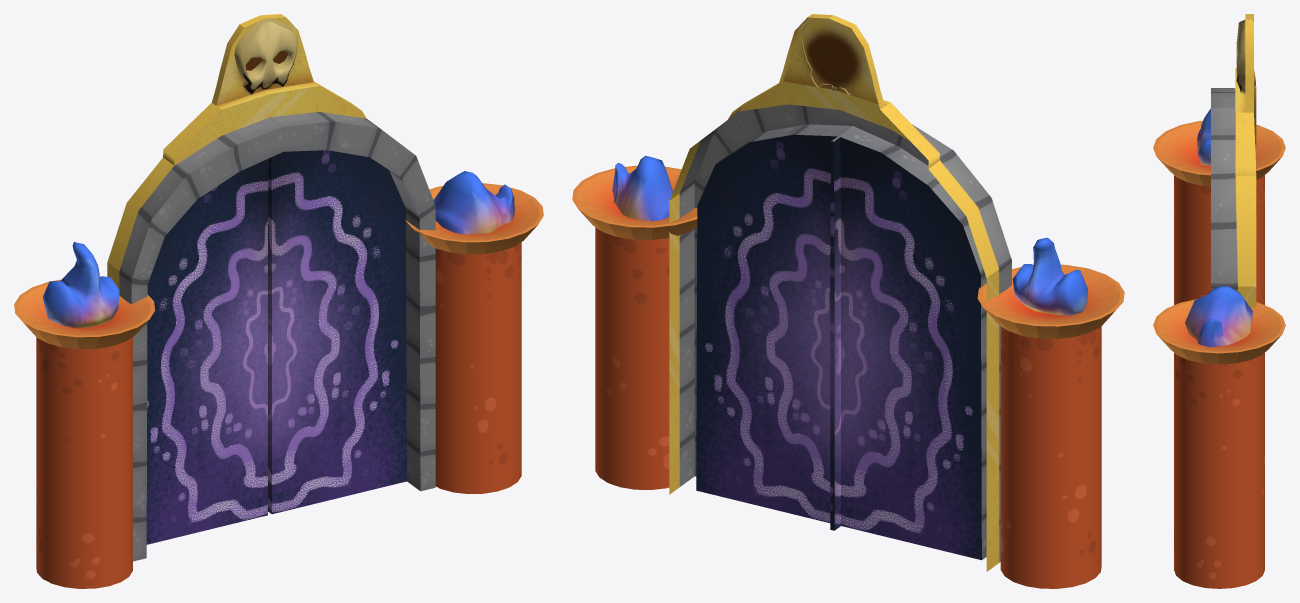
The model's file is door_ENTRANCE.fbx.
The picture shows the model from 3 angles, left to right: view 1: azimuth 30°, elevation 25°; view 2: azimuth 150°, elevation 25°; view 3: azimuth 270°, elevation 25°; orthographic projection. The views are drawn at different scales.
Parts seen in each view (by area): view 1: Door; view 2: Door; view 3: Door.
Part boxes in pixels (x1,y1,x2,y2): Door: (14,14,543,588); Door: (572,14,1124,588); Door: (1153,14,1285,588).
Bounding box in the file's own units: 121 × 111 × 29.1.
